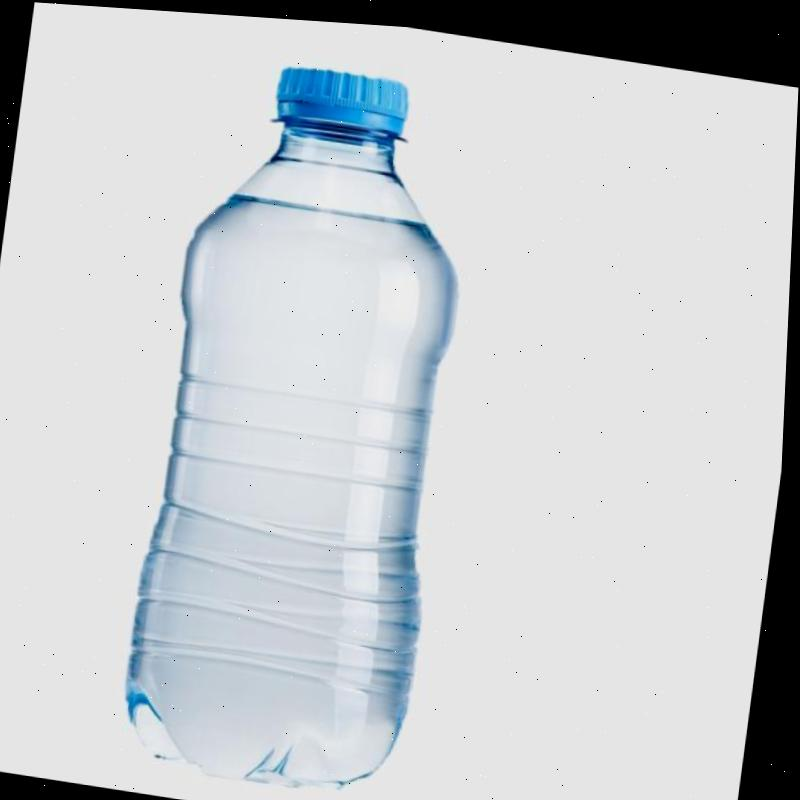botella: (113, 40, 484, 798)
